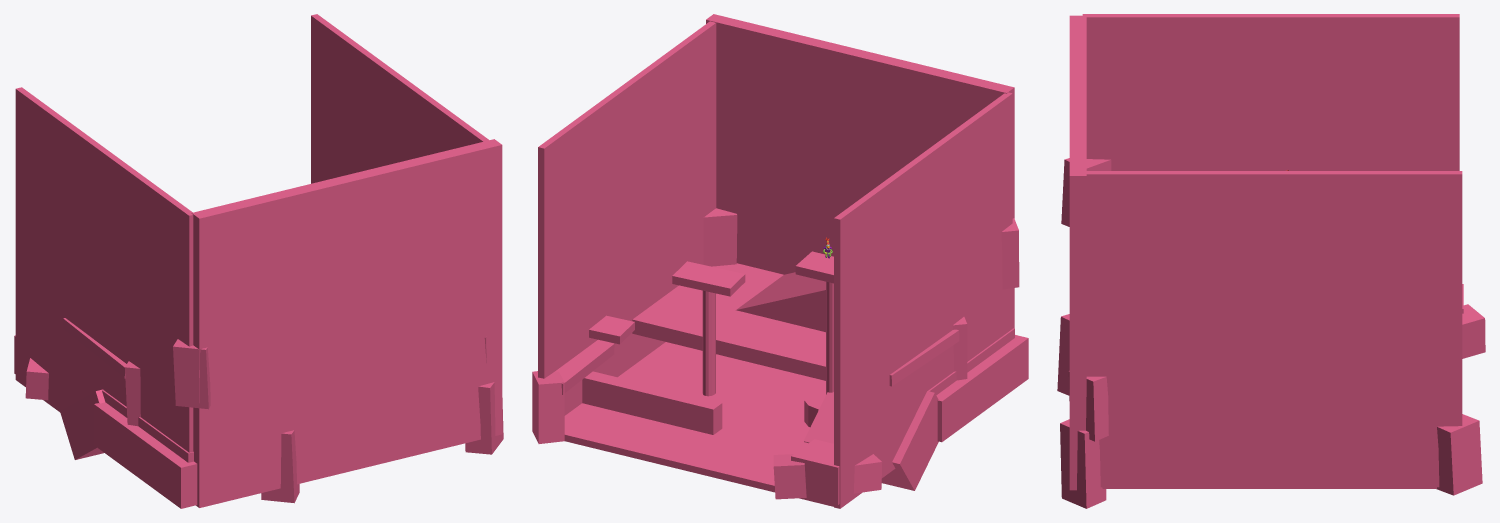
Rendered from mapa.fbx.
3 renders of one model, left to right at view 1: azimuth 30°, elevation 25°; view 2: azimuth 150°, elevation 25°; view 3: azimuth 270°, elevation 25°, orthographic. The views are drawn at different scales.
Parts seen in each view (by area): view 1: mesh_1492890681, mesh_268874549, mesh_505233329, mesh_318614248, mesh_1493927205, mesh_1193394646, mesh_1316071823, mesh_758457416, mesh_614595315, mesh_1565787166, mesh_322862036, mesh_807664012; view 2: mesh_268874549, mesh_505233329, mesh_1492890681, mesh_720402110, mesh_1565787166, mesh_936107864, mesh_318614248, mesh_1193394646, mesh_540717798, mesh_309284764, mesh_859460945, mesh_2018896559 (+11 smaller); view 3: mesh_505233329, mesh_268874549, mesh_1492890681, mesh_309284764, mesh_1316071823, mesh_2018896559, mesh_501701893, mesh_758457416, mesh_1493927205, mesh_720402110.
Boxes of the visible parts, box(x1,y1,x2,y2) form: mesh_1492890681: box(191, 139, 502, 507); mesh_268874549: box(15, 87, 193, 452); mesh_505233329: box(311, 14, 489, 183); mesh_318614248: box(94, 402, 197, 508); mesh_1493927205: box(173, 339, 210, 409); mesh_1193394646: box(60, 389, 105, 459); mesh_1316071823: box(465, 382, 503, 454); mesh_758457416: box(261, 430, 299, 503); mesh_614595315: box(63, 318, 126, 378); mesh_1565787166: box(102, 390, 193, 462); mesh_322862036: box(125, 361, 140, 426); mesh_807664012: box(25, 358, 48, 400); mesh_268874549: box(834, 92, 1012, 508); mesh_505233329: box(538, 21, 716, 415); mesh_1492890681: box(706, 14, 1014, 328); mesh_720402110: box(564, 342, 894, 507); mesh_1565787166: box(632, 263, 1014, 395); mesh_936107864: box(582, 371, 722, 434); mesh_318614248: box(936, 335, 1028, 442); mesh_1193394646: box(804, 391, 938, 490); mesh_540717798: box(736, 272, 825, 332); mesh_309284764: box(532, 371, 564, 443); mesh_859460945: box(791, 439, 839, 505); mesh_2018896559: box(703, 208, 737, 266); mesh_505233329: box(1086, 171, 1462, 487); mesh_268874549: box(1082, 14, 1459, 170); mesh_1492890681: box(1069, 15, 1086, 490); mesh_309284764: box(1436, 414, 1482, 495); mesh_1316071823: box(1060, 419, 1106, 508); mesh_2018896559: box(1068, 371, 1108, 441); mesh_501701893: box(1462, 304, 1485, 358); mesh_758457416: box(1057, 314, 1069, 395); mesh_1493927205: box(1061, 158, 1111, 226); mesh_720402110: box(1102, 487, 1436, 488).
Size of the model in its own units: 634 by 586 by 652.
